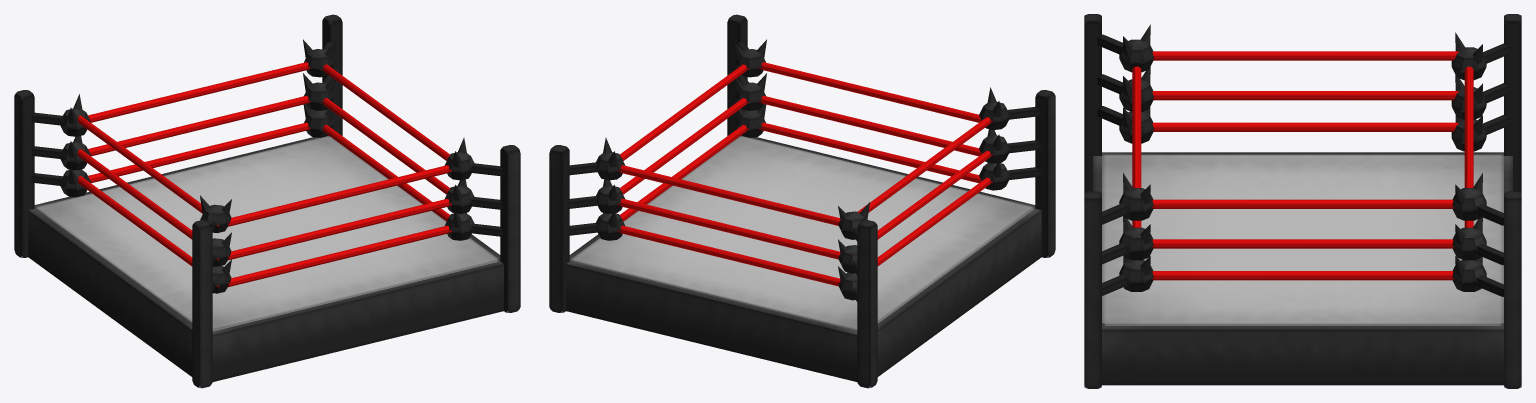
The model's file is Boxingring.fbx.
The picture shows the model from 3 angles, left to right: view 1: azimuth 30°, elevation 25°; view 2: azimuth 150°, elevation 25°; view 3: azimuth 270°, elevation 25°; orthographic projection. The views are drawn at different scales.
Parts seen in each view (by area): view 1: cuboid_1, cuboid, cuboid_2, cuboid_5, cuboid_3, cone_3, cone_6, cone_1, cone_10, cone_5, cone_9, cone_2 (+6 smaller); view 2: cuboid_1, cuboid, cuboid_3, cuboid_4, cuboid_2, cone_3, cone_6, cone_1, cone_10, cone_5, cone_9, cone_2 (+6 smaller); view 3: cuboid_1, cuboid, cone, cone_2, cone_7, cone_11, cone_4, cone_8, cuboid_4, cuboid_5, cuboid_2, cuboid_3 (+6 smaller).
Boxes of the visible parts, left/top/right/bottom form: cuboid_1: left=35, top=136, right=499, bottom=331; cuboid: left=28, top=135, right=503, bottom=381; cuboid_2: left=192, top=220, right=212, bottom=388; cuboid_5: left=500, top=145, right=520, bottom=312; cuboid_3: left=14, top=90, right=34, bottom=257; cone_3: left=216, top=137, right=503, bottom=226; cone_6: left=217, top=179, right=503, bottom=260; cone_1: left=31, top=62, right=310, bottom=136; cone_10: left=217, top=211, right=503, bottom=287; cone_5: left=31, top=95, right=310, bottom=170; cone_9: left=31, top=122, right=310, bottom=197; cone_2: left=303, top=39, right=449, bottom=160; cuboid_1: left=570, top=136, right=1034, bottom=331; cuboid: left=566, top=135, right=1041, bottom=381; cuboid_3: left=857, top=220, right=877, bottom=388; cuboid_4: left=549, top=145, right=569, bottom=312; cuboid_2: left=1035, top=90, right=1055, bottom=257; cone_3: left=735, top=39, right=981, bottom=122; cone_6: left=735, top=73, right=982, bottom=156; cone_1: left=618, top=165, right=869, bottom=241; cone_10: left=735, top=104, right=981, bottom=183; cone_5: left=618, top=198, right=857, bottom=274; cone_9: left=617, top=225, right=857, bottom=301; cone_2: left=567, top=64, right=748, bottom=180; cuboid_1: left=1102, top=154, right=1503, bottom=325; cuboid: left=1093, top=152, right=1512, bottom=385; cone: left=1097, top=24, right=1458, bottom=72; cone_2: left=1151, top=173, right=1503, bottom=225; cone_7: left=1152, top=217, right=1503, bottom=265; cone_11: left=1151, top=256, right=1503, bottom=296; cone_4: left=1097, top=67, right=1458, bottom=111; cone_8: left=1097, top=106, right=1458, bottom=143; cuboid_4: left=1504, top=191, right=1521, bottom=388; cuboid_5: left=1084, top=191, right=1101, bottom=388; cuboid_2: left=1084, top=14, right=1101, bottom=192; cuboid_3: left=1504, top=14, right=1521, bottom=192.
Bounding box in the file's own units: 312 × 155 × 313.
2 materials, 2 textured.
